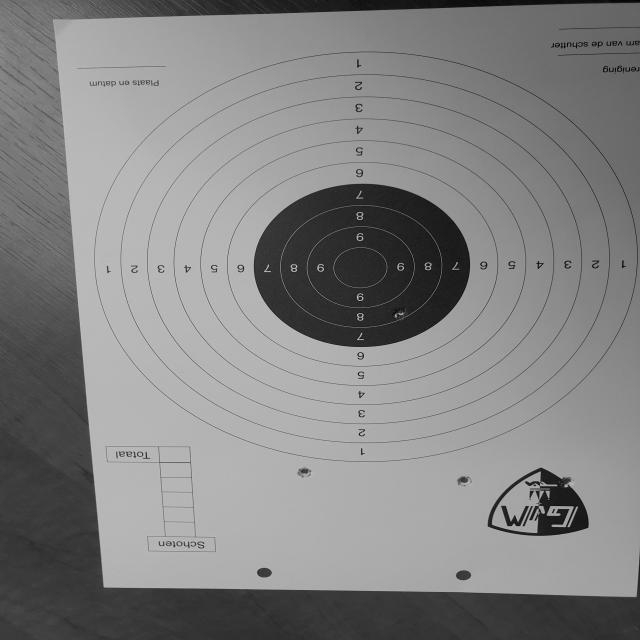0: (296, 467, 313, 479), (457, 475, 473, 487), (559, 476, 575, 488)
8: (390, 308, 408, 320)
Target: (91, 51, 640, 463)
black_contour: (254, 183, 468, 348)
